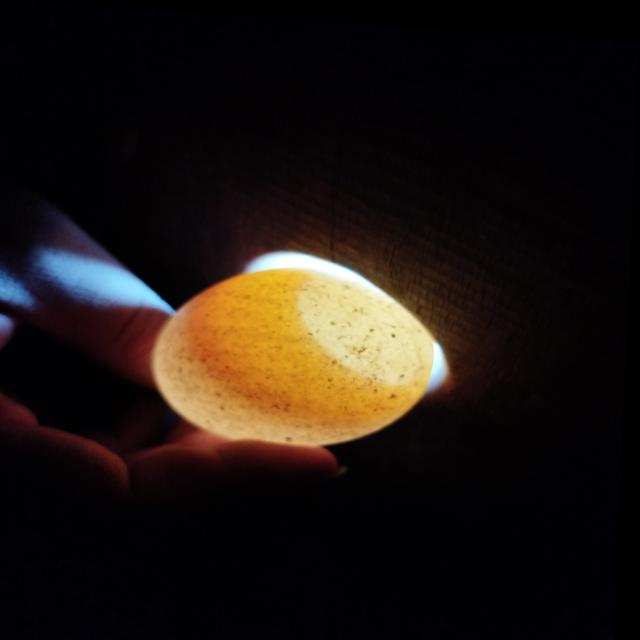Camara de Ar: (302, 272, 437, 378)
Gema Quebrada: (191, 273, 393, 422)
